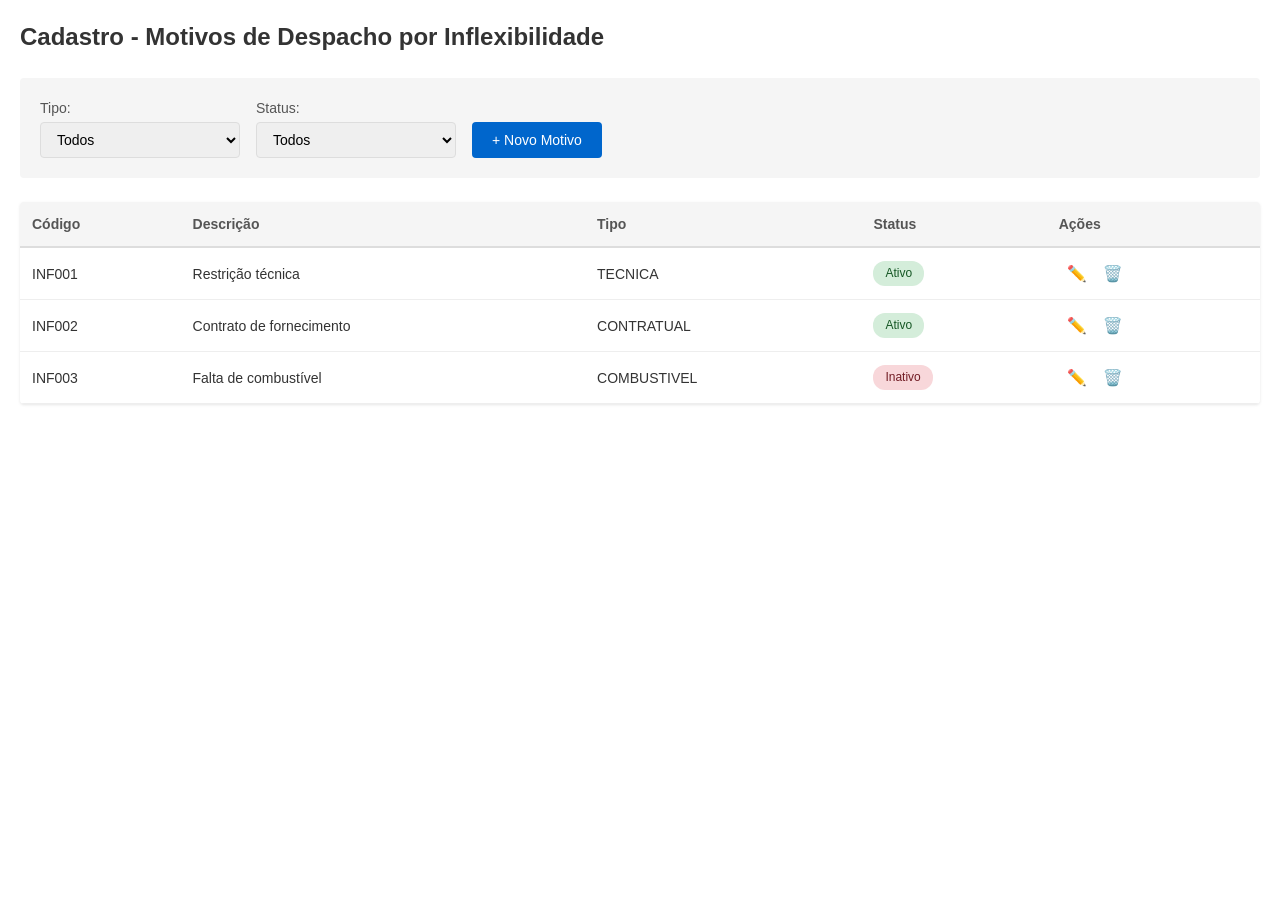
InflexibilityDispatchReason Component › Diálogo de Criação/Edição › deve exibir erro ao salvar sem tipo
Click the button with test id "btn-novo-motivo".
click(537, 140)  # box [472,122,602,158]
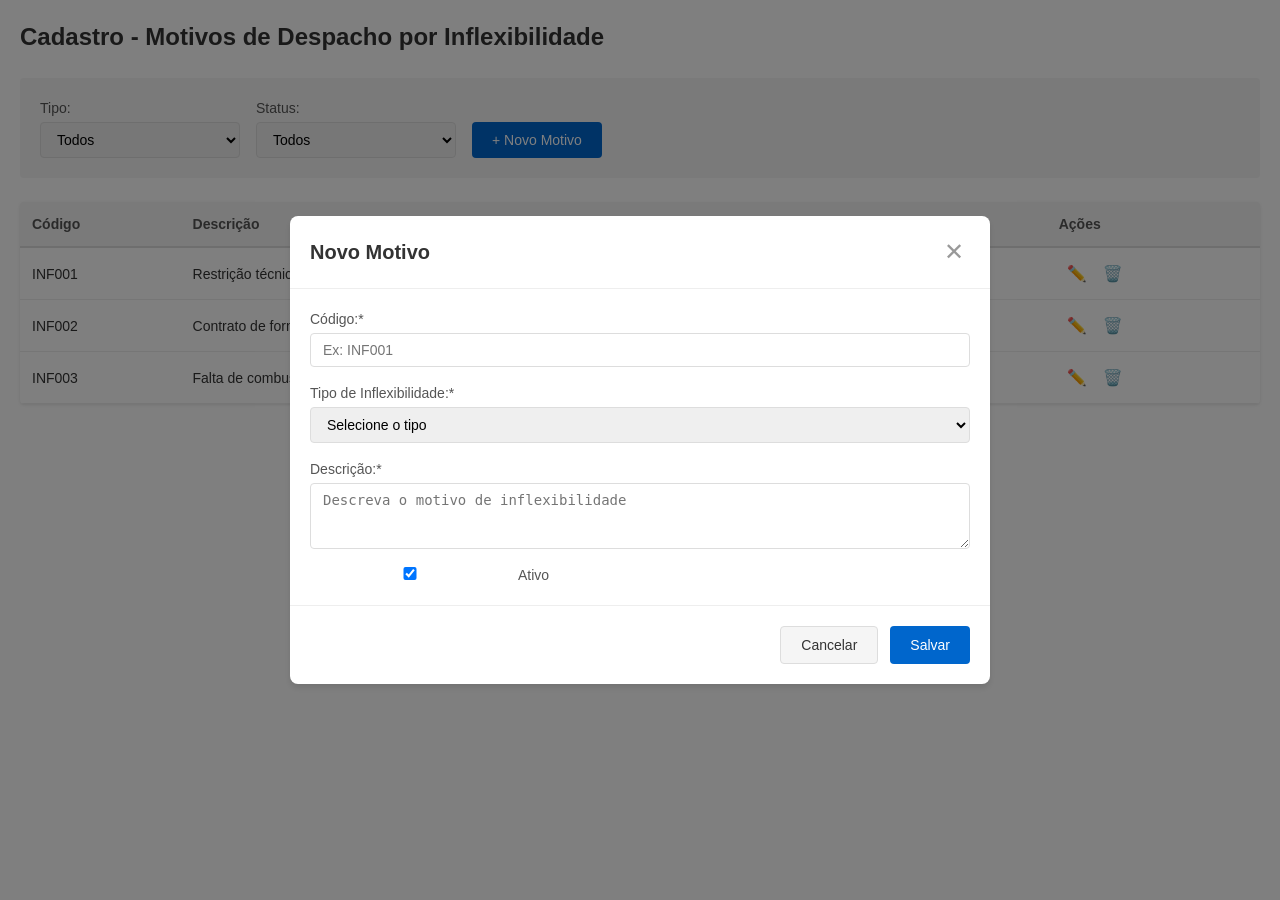
Expected: the element with test id "dialog-form" is shown
Type "INF999" into the field with test id "form-codigo".
click(640, 350); type("INF999")  # box [310,333,970,367]
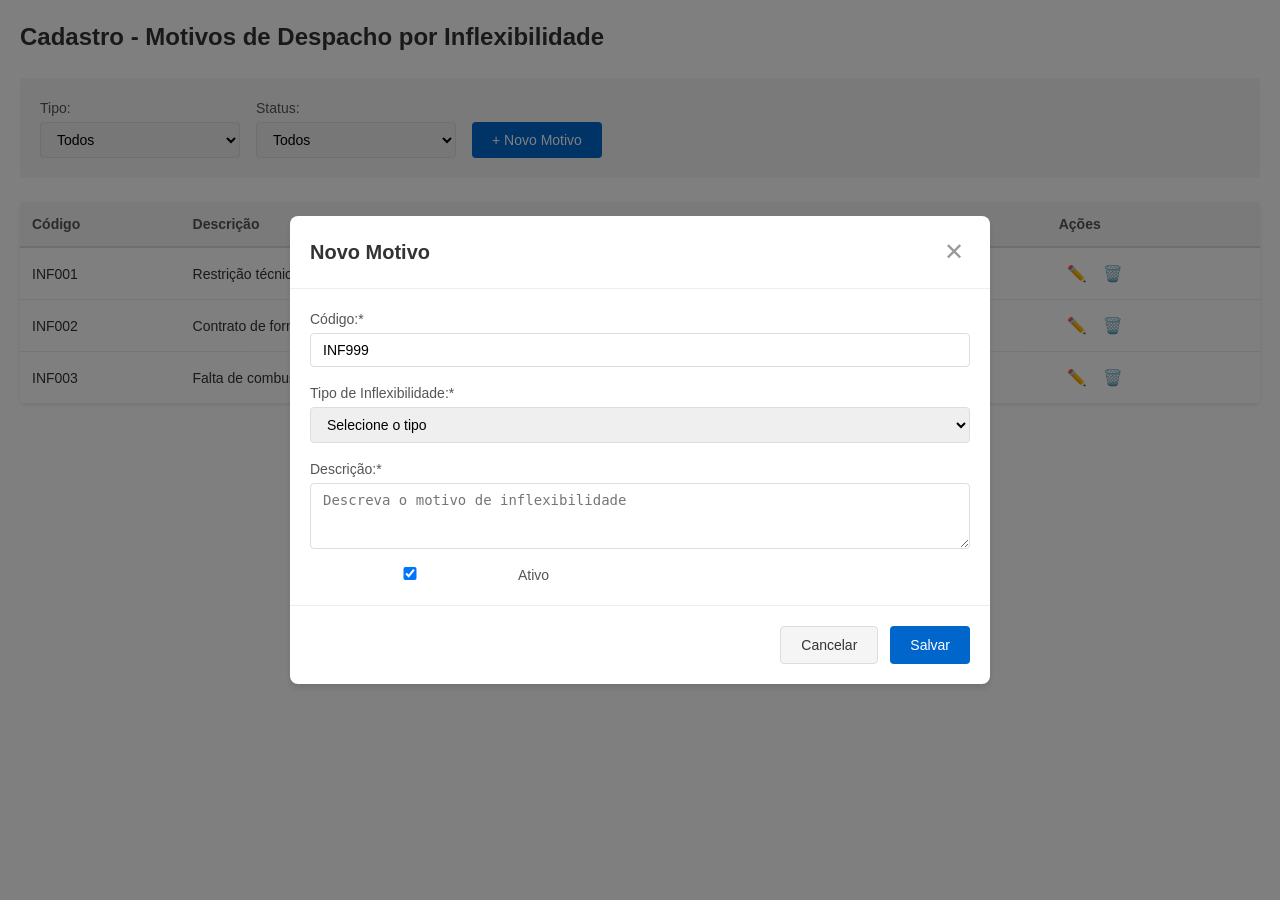
Type "Teste" into the text box with test id "form-descricao".
click(640, 516); type("Teste")  # box [310,483,970,549]
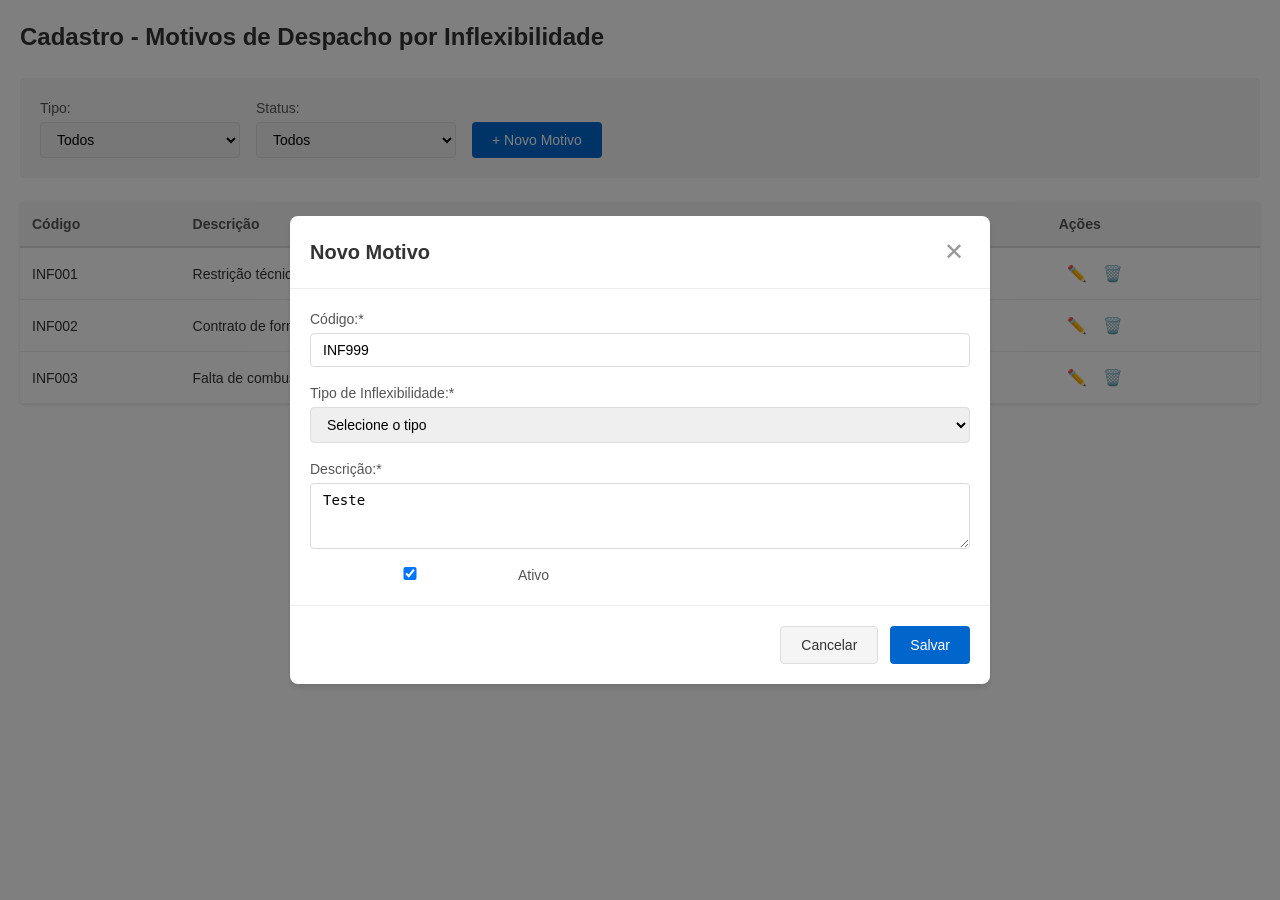
Click the button with test id "btn-save".
click(930, 645)  # box [890,626,970,664]
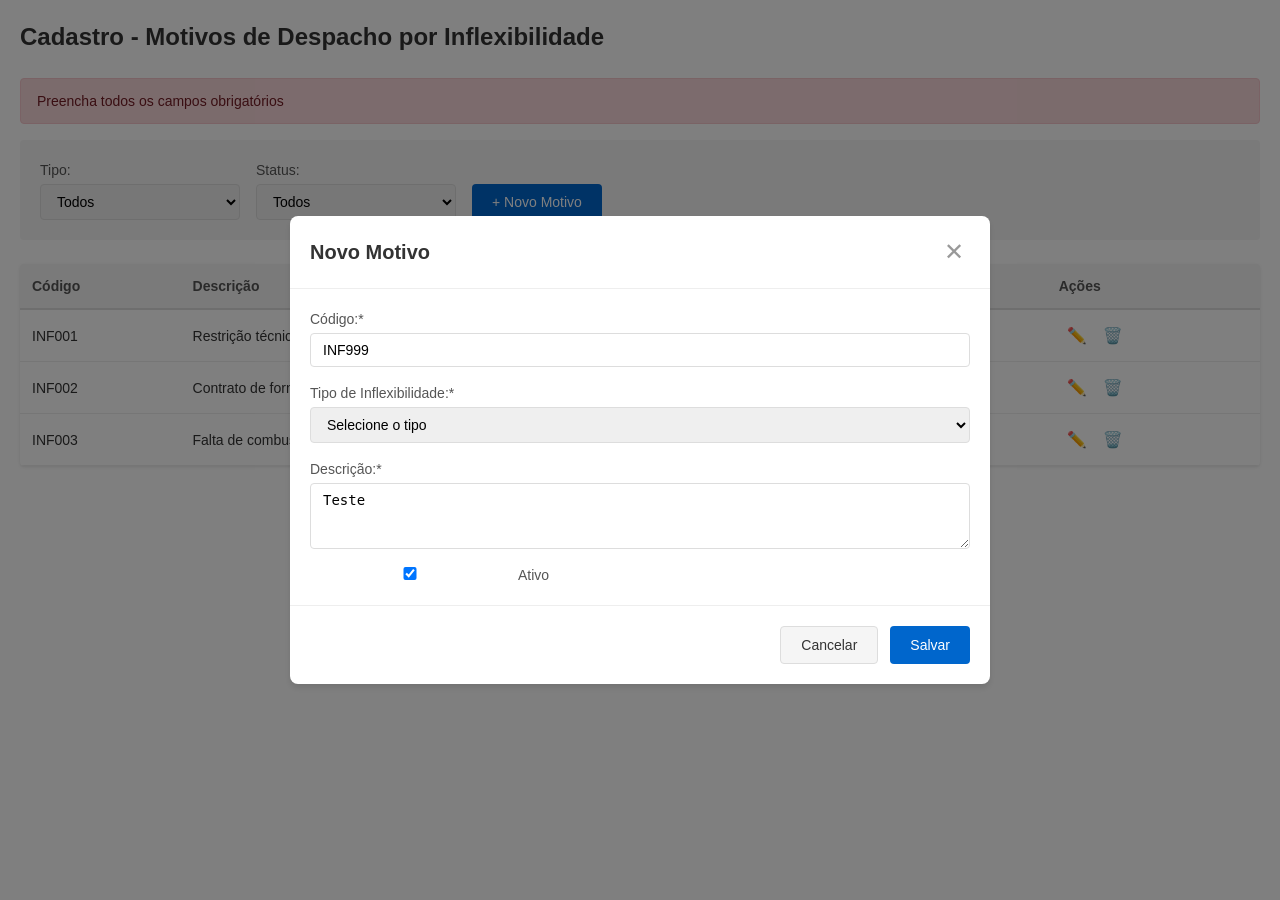
Expected: the text "Preencha todos os campos obrigatórios" is shown, [20,78,1260,124]
